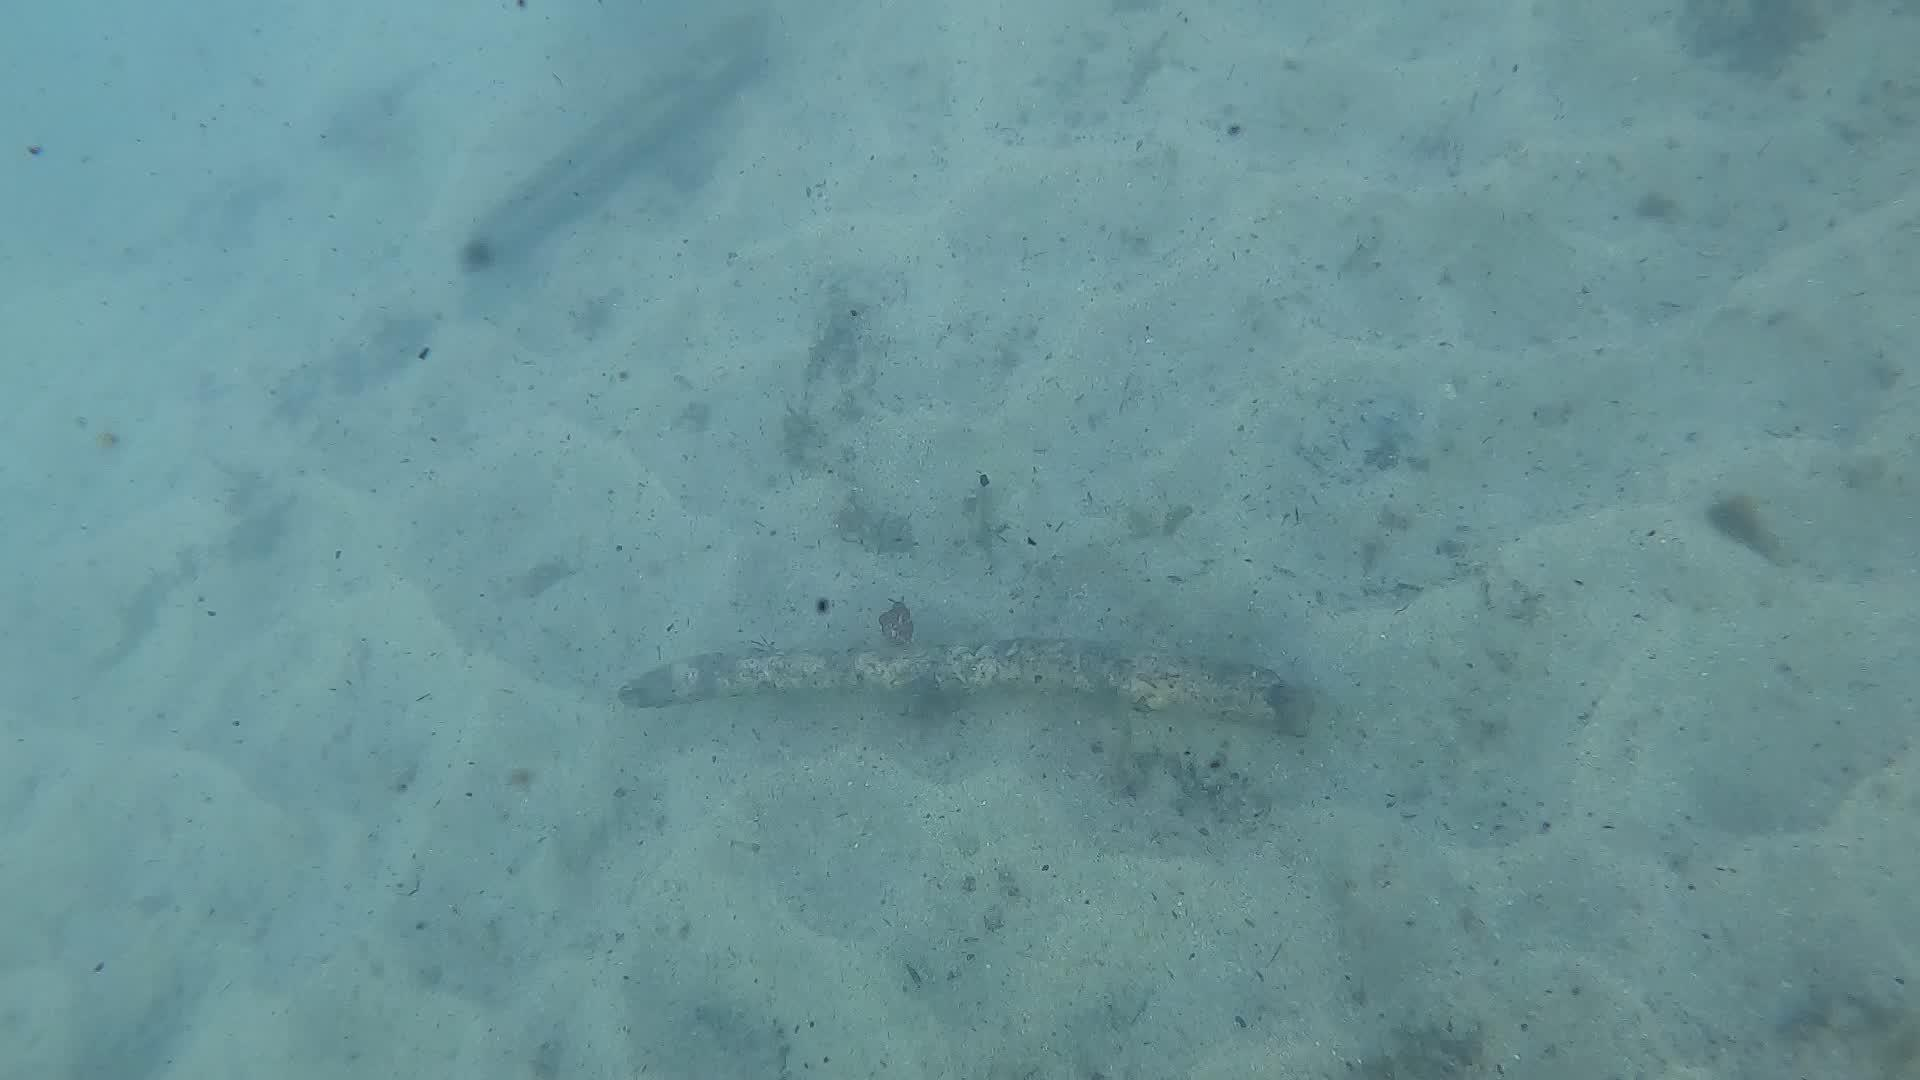wood: (465, 3, 769, 262), (615, 633, 1317, 738)
